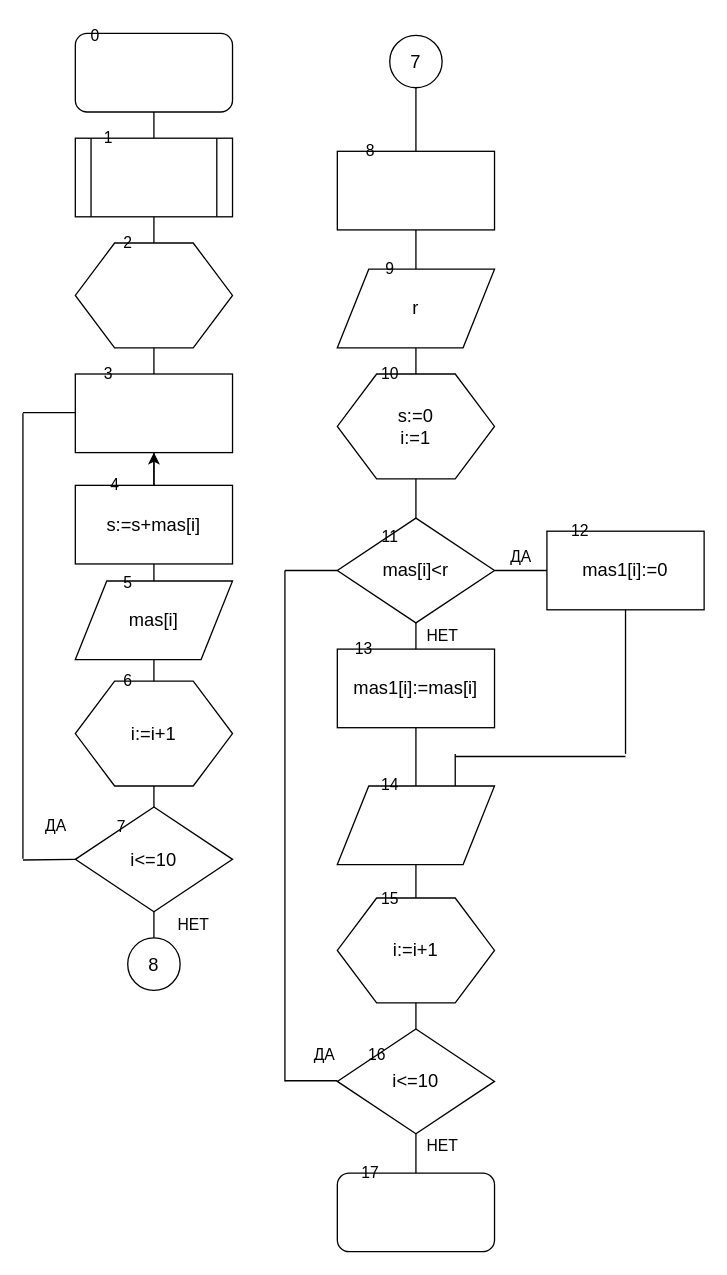
The diagram is 727 pixels wide and 1275 high, and some of its shapes have lost their labels. Each missing label, with the box of its shape:
i:=1: (74, 242, 233, 348)
mas1[i]: (336, 785, 495, 865)
mas[i]:=random(100): (74, 373, 233, 453)
r:=s/10: (336, 150, 495, 230)
randomize: (74, 137, 233, 217)
ОСТАНОВ: (336, 1172, 495, 1252)
ПУСК: (74, 32, 233, 112)
